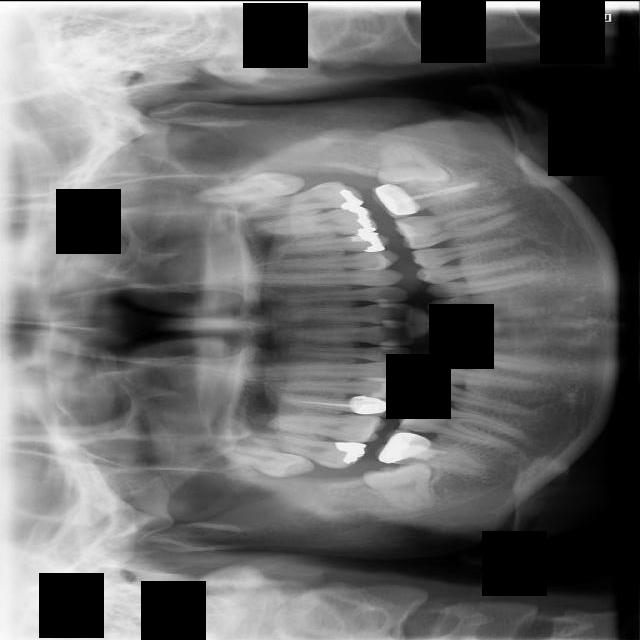3M ESPE Implant: (216, 440, 317, 484)
52: (366, 171, 424, 227), (373, 424, 433, 472), (324, 200, 379, 239), (304, 179, 364, 209), (308, 440, 367, 469), (347, 391, 399, 418), (363, 300, 415, 325), (341, 230, 391, 254), (366, 324, 416, 345), (362, 344, 411, 362), (359, 285, 409, 302)
73: (394, 176, 489, 213), (409, 436, 492, 477), (275, 392, 356, 412), (585, 36, 594, 48)
BioHorizons Implant: (235, 177, 364, 220)
BioLife Implant: (192, 166, 306, 210)
Biomet 3i Implant: (377, 139, 453, 188)
Caries: (239, 429, 370, 471)
Implant: (373, 425, 492, 477)
Keystone Dental Implant: (361, 456, 439, 520)
